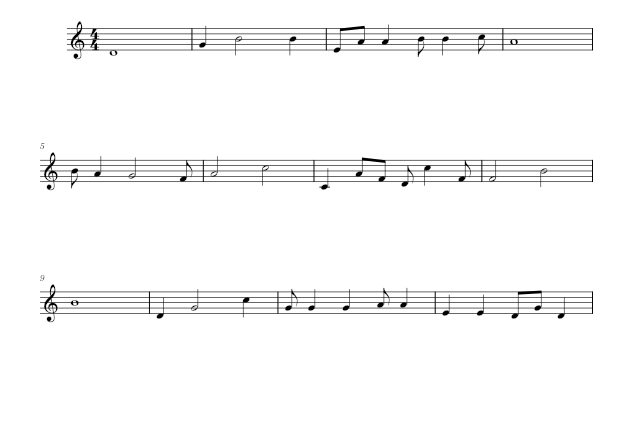Treble Clef: (67, 18, 88, 64), (40, 282, 61, 326), (40, 150, 61, 194)
